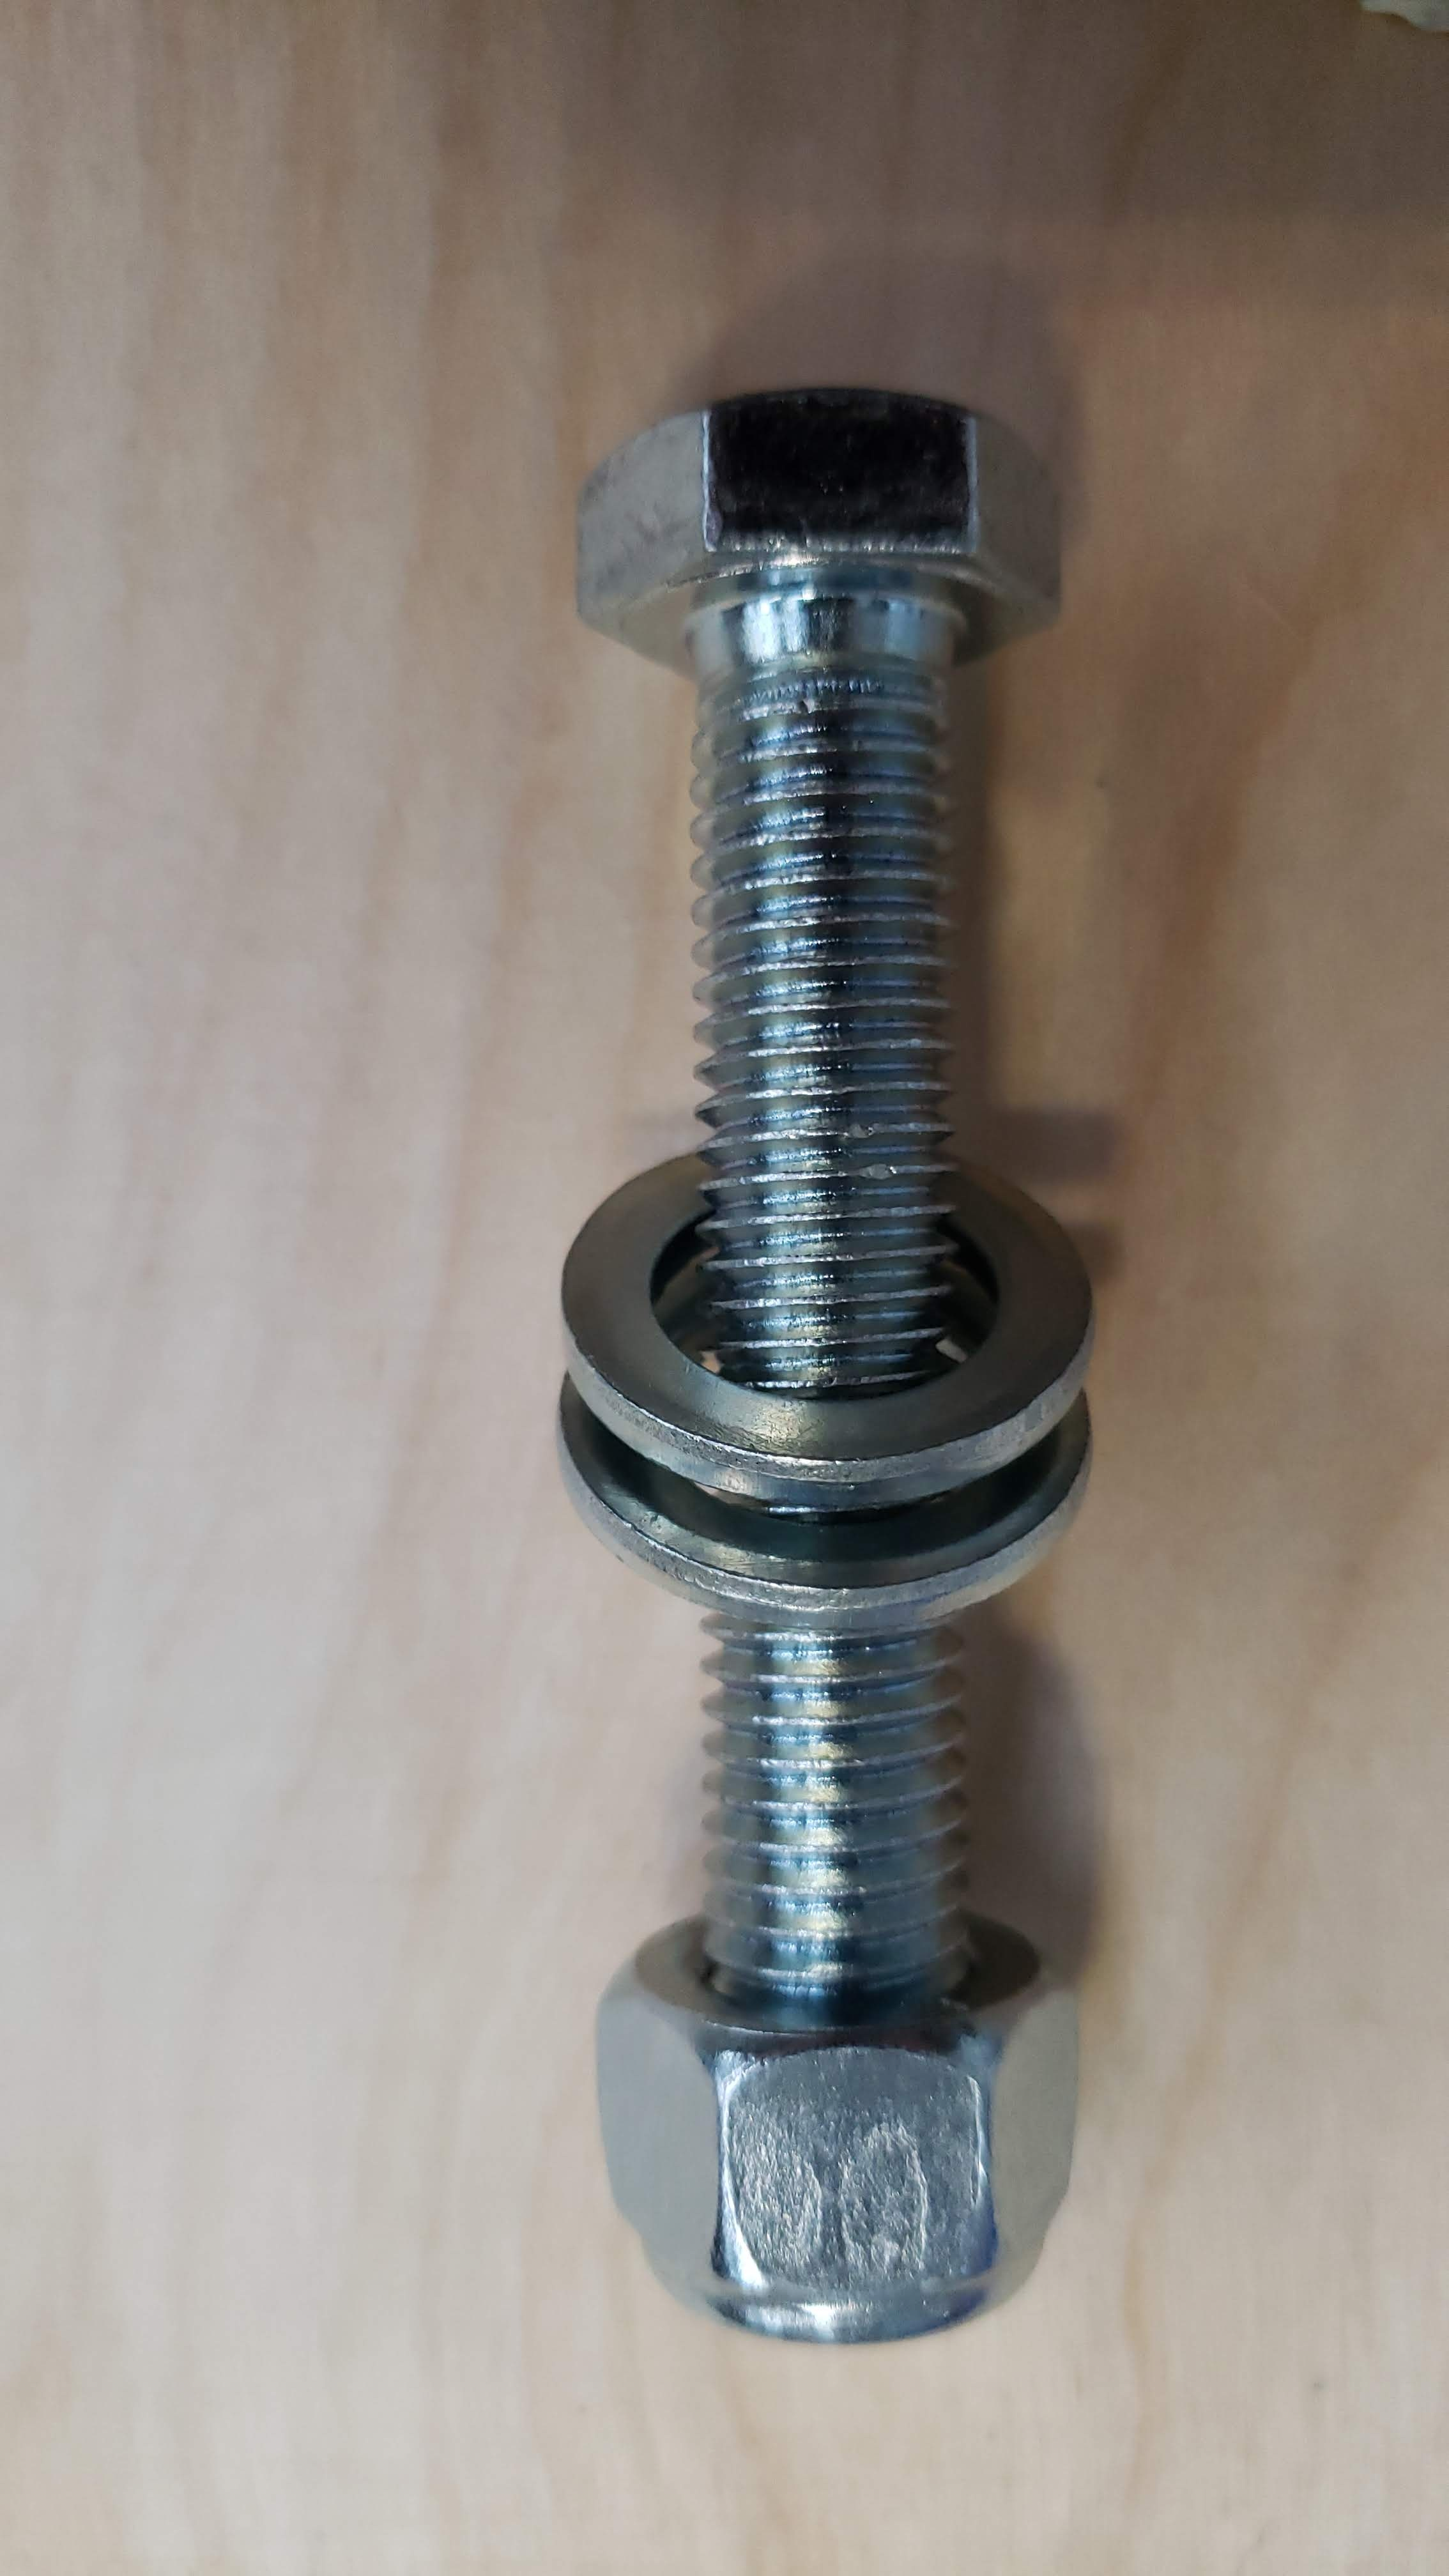FinishedAssembly: (303, 315, 1299, 2408)
